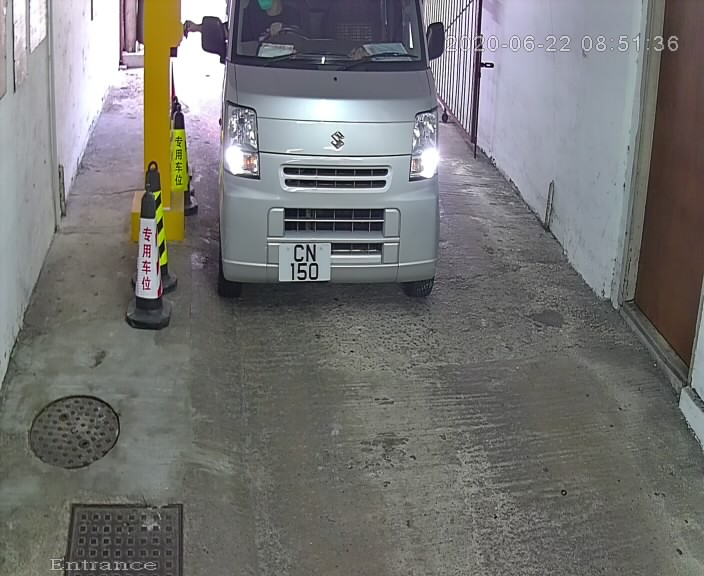van_s: (190, 1, 467, 294)
